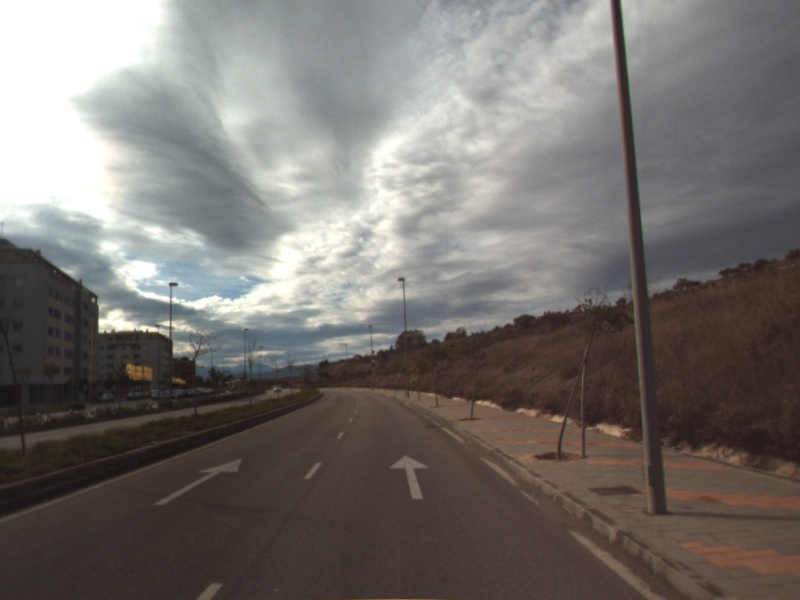STRAIGHT: (150, 457, 244, 508), (388, 453, 432, 501)
